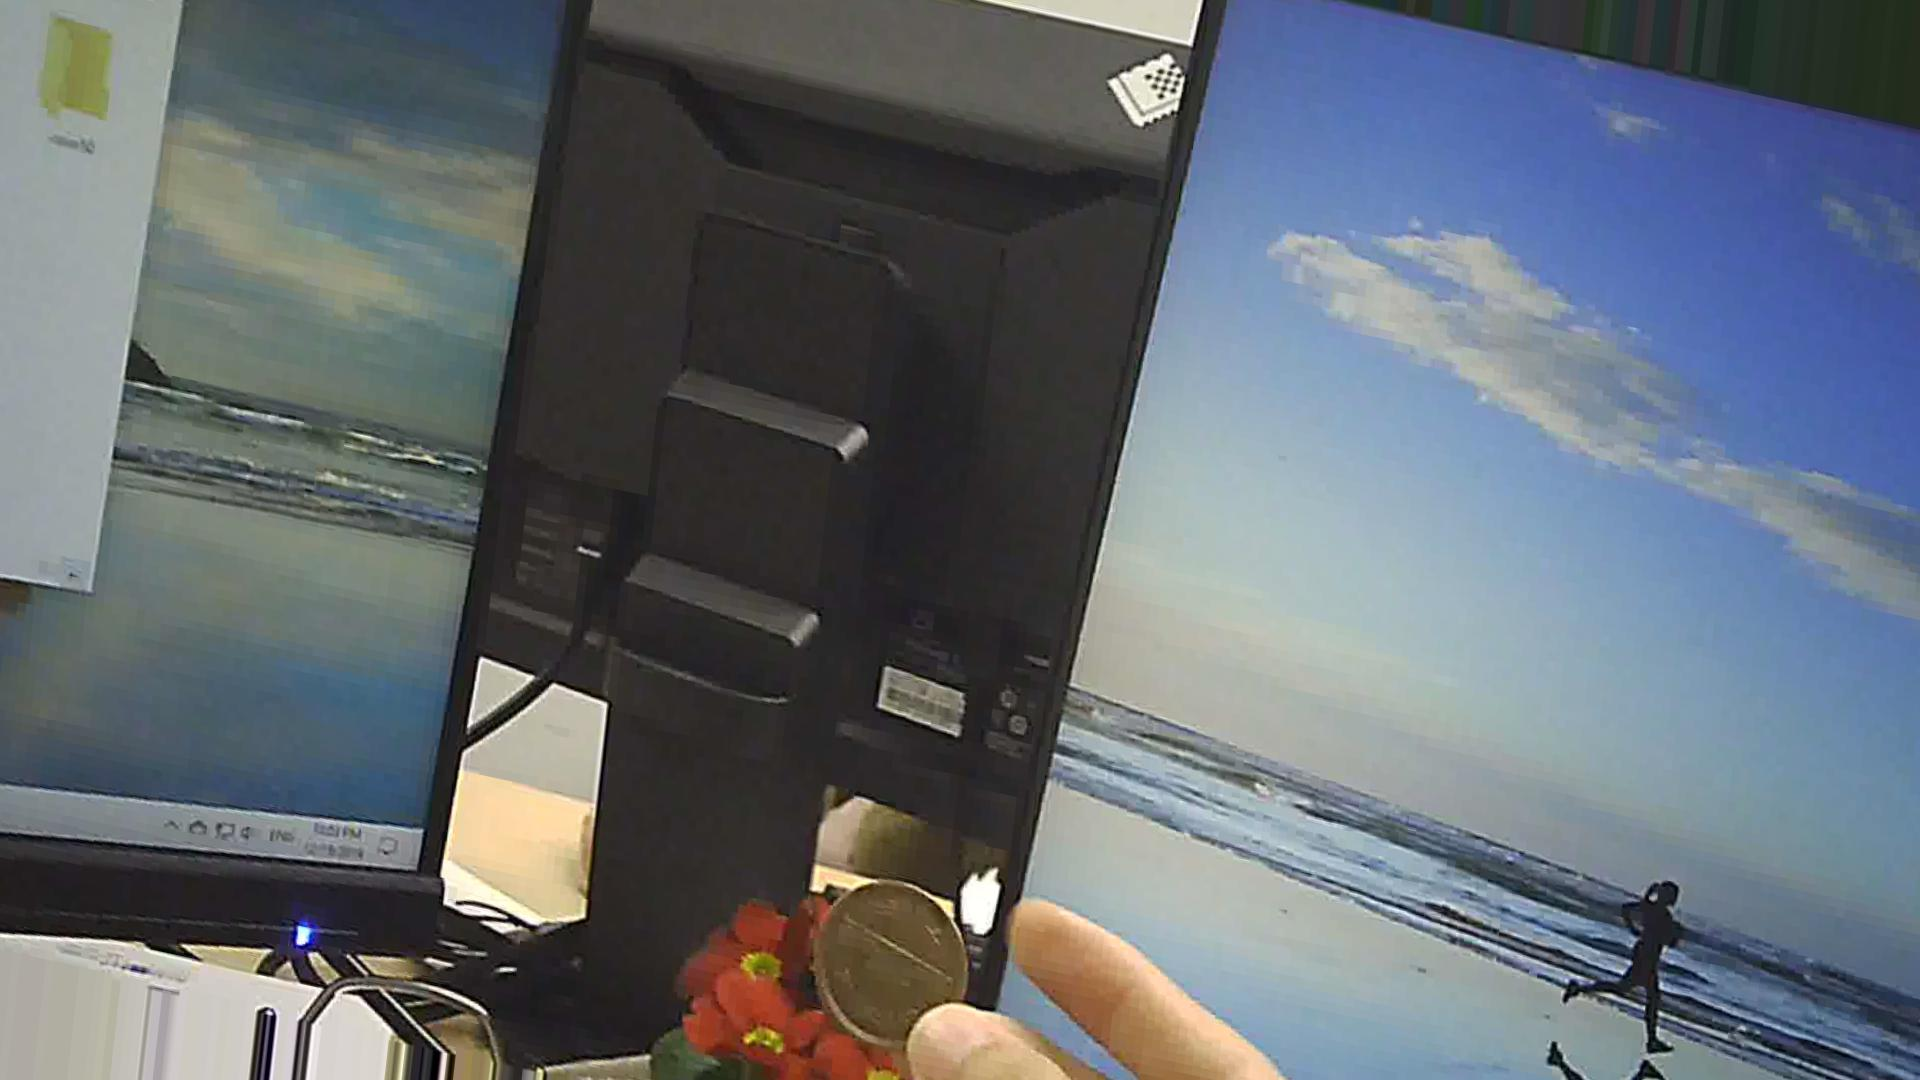10 Yen: (820, 878, 967, 1052)
